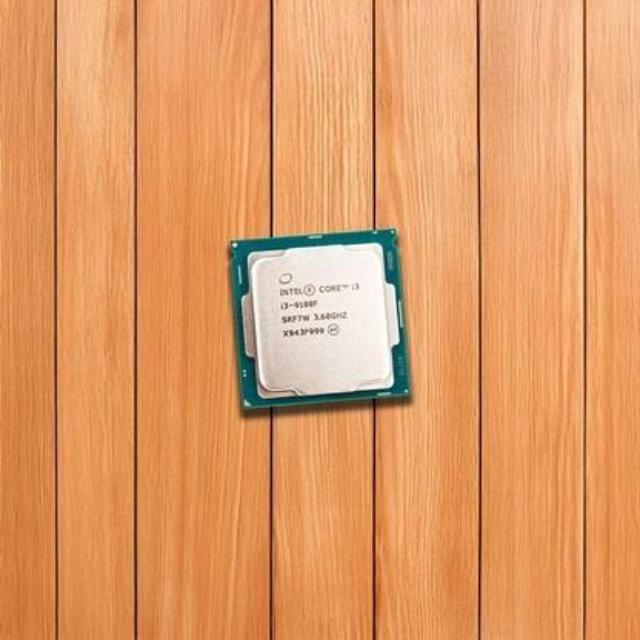CPU: (232, 236, 408, 410)
